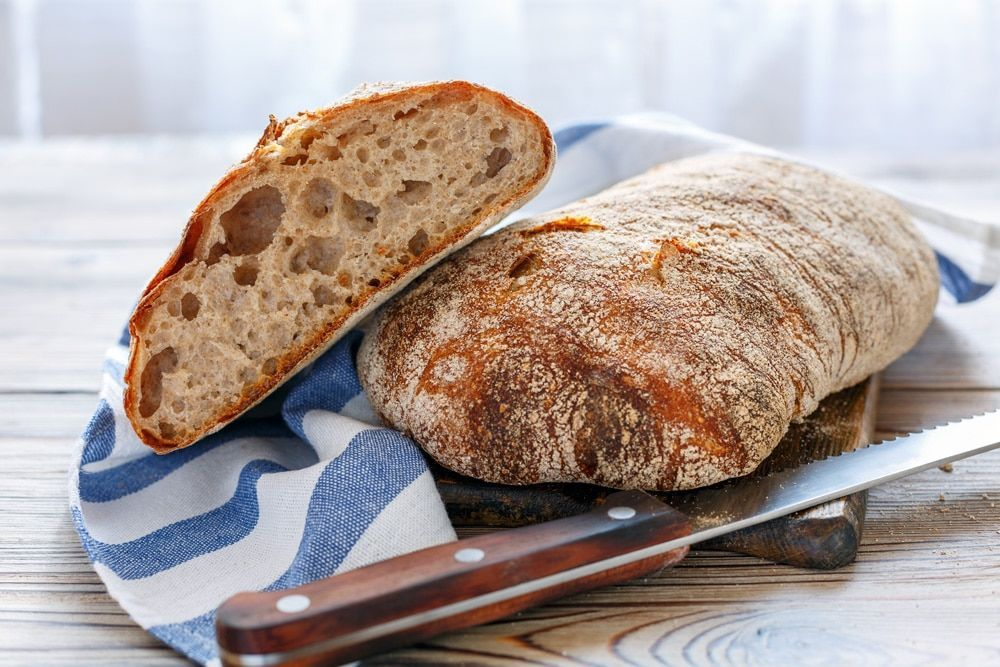Bread: (63, 46, 562, 458), (383, 156, 967, 456)
